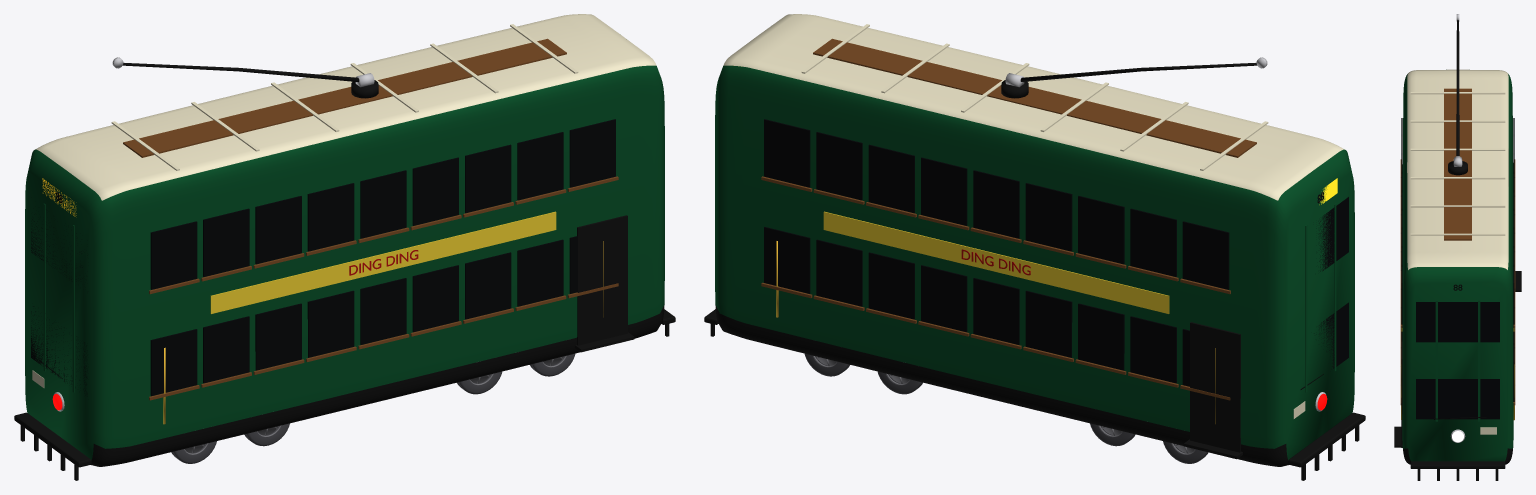
The model's file is tram.glb.
The picture shows the model from 3 angles, left to right: view 1: azimuth 30°, elevation 25°; view 2: azimuth 150°, elevation 25°; view 3: azimuth 270°, elevation 25°; orthographic projection. The views are drawn at different scales.
Visible parts, largest first — view 1: body, walk, advert.001, door.001, win.032, win.035, win.028, win.029, win.031, win.027, win.033, win.034 (+11 smaller); view 2: body, walk, advert, door, win.014, win.017, win.011, win.013, win.009, win.010, win.012, win.015 (+13 smaller); view 3: body, walk, screenU, screenL, fender, pole, mullion, mullion.001, roofrib.005, roofrib.002, roofrib.004, roofrib.003 (+5 smaller).
Part boxes in pixels (bbox=[...]): body: bbox=[25, 14, 664, 466]; walk: bbox=[123, 38, 566, 157]; advert.001: bbox=[210, 211, 556, 313]; door.001: bbox=[577, 215, 627, 345]; win.032: bbox=[307, 183, 354, 251]; win.035: bbox=[150, 221, 197, 289]; win.028: bbox=[517, 132, 563, 200]; win.029: bbox=[465, 144, 511, 213]; win.031: bbox=[360, 170, 406, 238]; win.027: bbox=[569, 119, 615, 187]; win.033: bbox=[255, 196, 301, 264]; win.034: bbox=[203, 208, 249, 276]; body: bbox=[715, 14, 1354, 466]; walk: bbox=[813, 38, 1256, 157]; advert: bbox=[823, 211, 1169, 313]; door: bbox=[1190, 322, 1240, 452]; win.014: bbox=[1025, 183, 1072, 251]; win.017: bbox=[1182, 221, 1229, 289]; win.011: bbox=[868, 144, 914, 213]; win.013: bbox=[973, 170, 1019, 238]; win.009: bbox=[764, 119, 810, 187]; win.010: bbox=[816, 132, 862, 200]; win.012: bbox=[921, 157, 967, 225]; win.015: bbox=[1078, 196, 1124, 264]; body: bbox=[1402, 69, 1513, 464]; walk: bbox=[1444, 88, 1471, 240]; screenU: bbox=[1416, 302, 1499, 342]; screenL: bbox=[1416, 379, 1499, 419]; fender: bbox=[1410, 461, 1505, 468]; pole: bbox=[1456, 20, 1459, 155]; mullion: bbox=[1435, 300, 1437, 421]; mullion.001: bbox=[1478, 300, 1480, 421]; roofrib.005: bbox=[1410, 233, 1505, 235]; roofrib.002: bbox=[1410, 148, 1505, 150]; roofrib.004: bbox=[1410, 205, 1505, 207]; roofrib.003: bbox=[1410, 177, 1505, 179].
Bounding box in the file's own units: 9 × 5.69 × 2.28.
